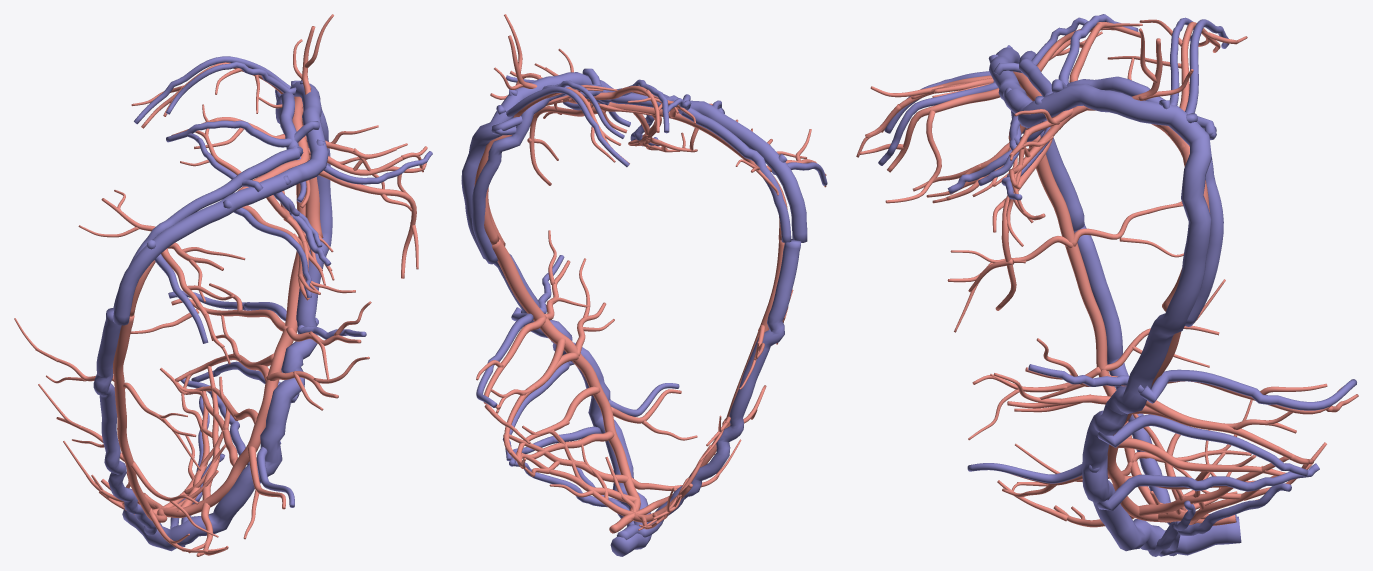
Rendered from vessels_65.glb.
3 renders of one model, left to right at view 1: azimuth 30°, elevation 25°; view 2: azimuth 150°, elevation 25°; view 3: azimuth 270°, elevation 25°, orthographic. The views are drawn at different scales.
Visible parts, largest first — view 1: Renderer Node; view 2: Renderer Node; view 3: Renderer Node.
Part boxes in pixels (x1=…): Renderer Node: x1=14, y1=14, x2=432, y2=556; Renderer Node: x1=461, y1=14, x2=827, y2=556; Renderer Node: x1=856, y1=14, x2=1358, y2=556.
Size of the model in its own units: 88.75 by 124 by 90.92.
